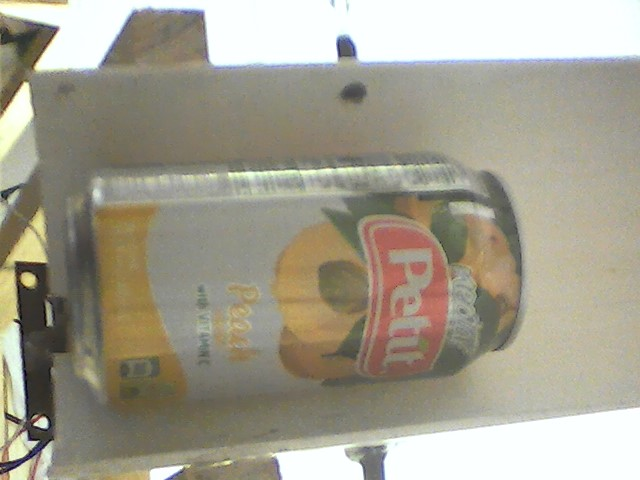lata: (60, 145, 531, 416)
